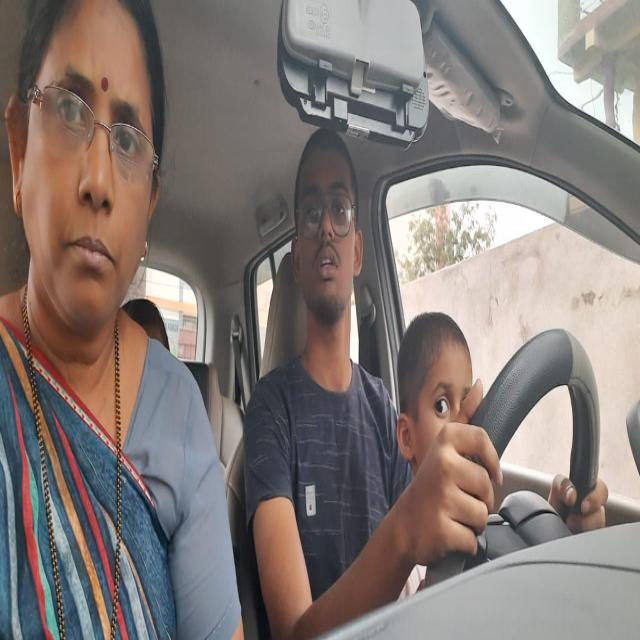child: (391, 322, 472, 438)
person: (8, 4, 167, 328), (293, 120, 366, 314)
